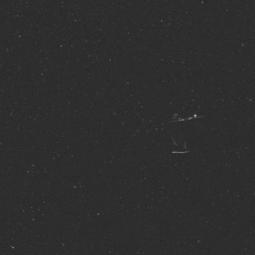proba_3_ocs: (157, 102, 212, 155)
